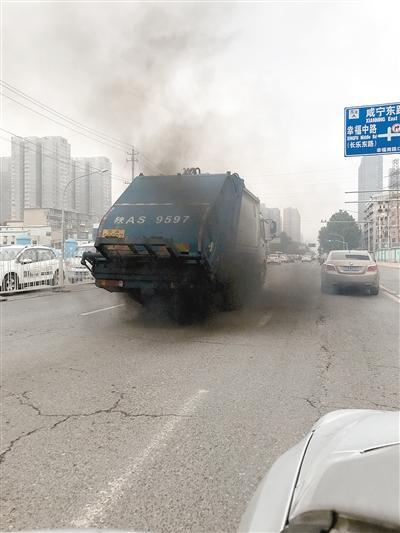smoke: (110, 167, 310, 338)
